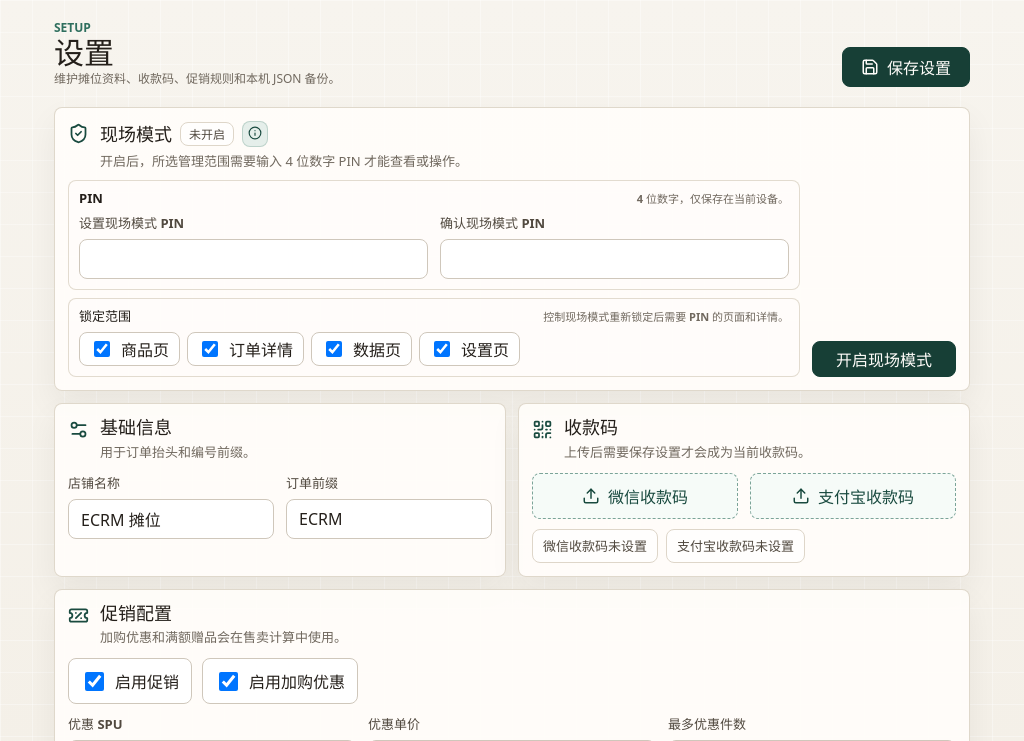
rejects mismatched field lock PIN confirmation
The image size is (1024, 741).
Type "2580" into the password field labelled "设置现场模式 PIN" at (254, 259), box [79, 239, 428, 279]
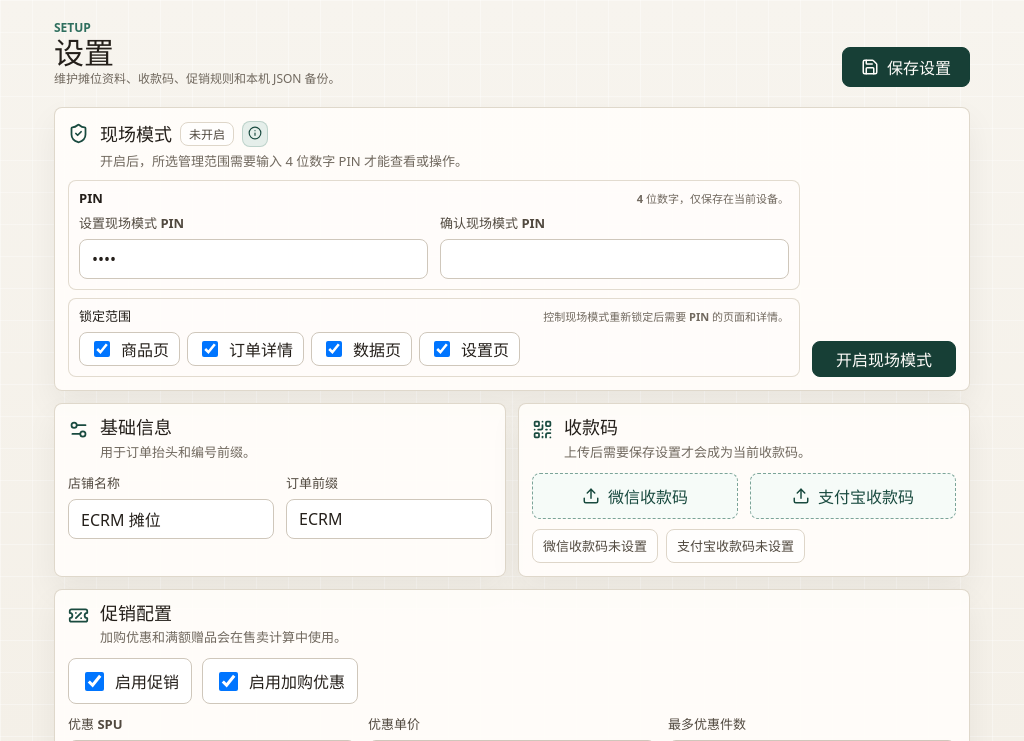
Type "2581" into the password field labelled "确认现场模式 PIN" at (614, 259), box [440, 239, 789, 279]
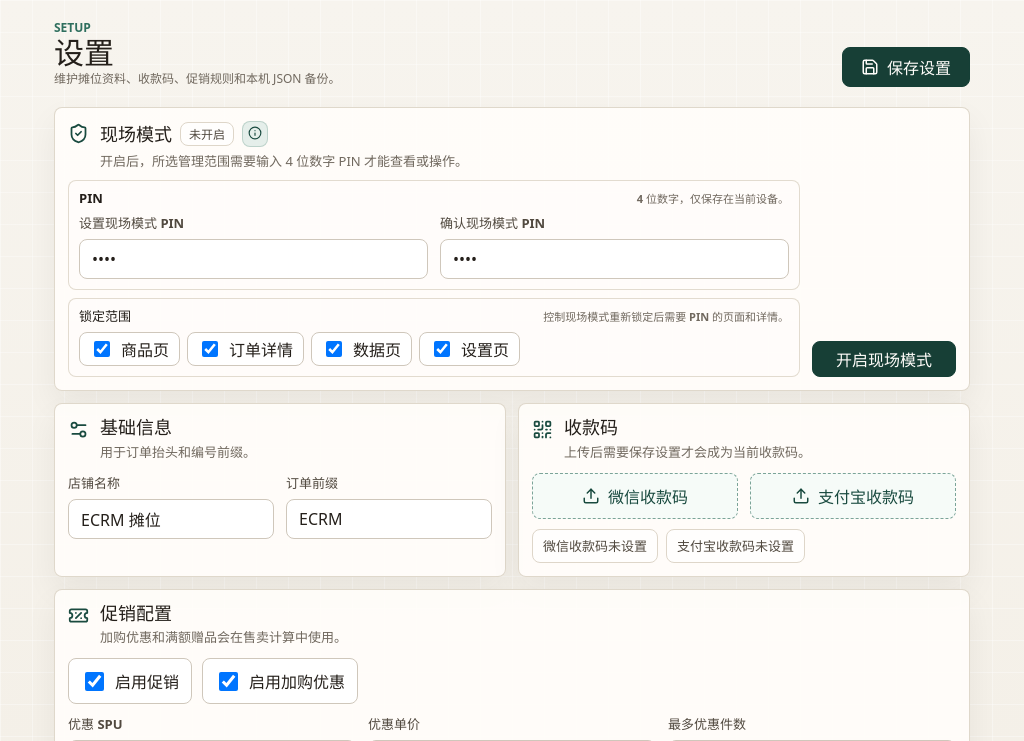
Click the button "开启现场模式" at (884, 359), box [812, 341, 956, 377]
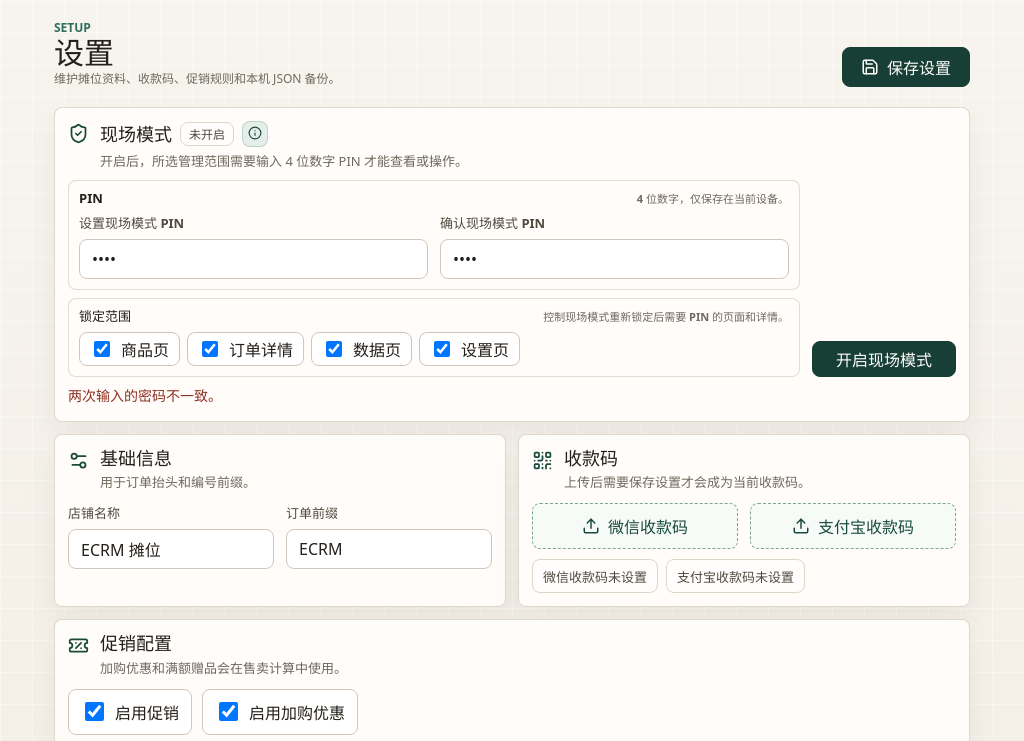
Expected: the text "两次输入的密码不一致。" is shown, [68, 386, 222, 405]
